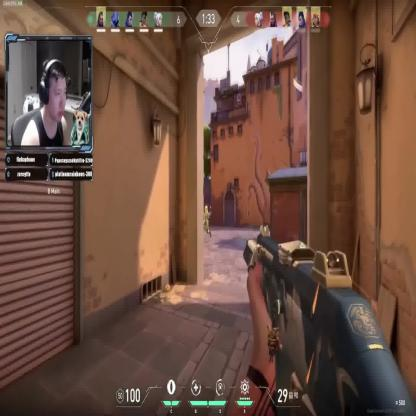enemy: (202, 205, 212, 237)
enemy_head: (204, 205, 209, 213)
